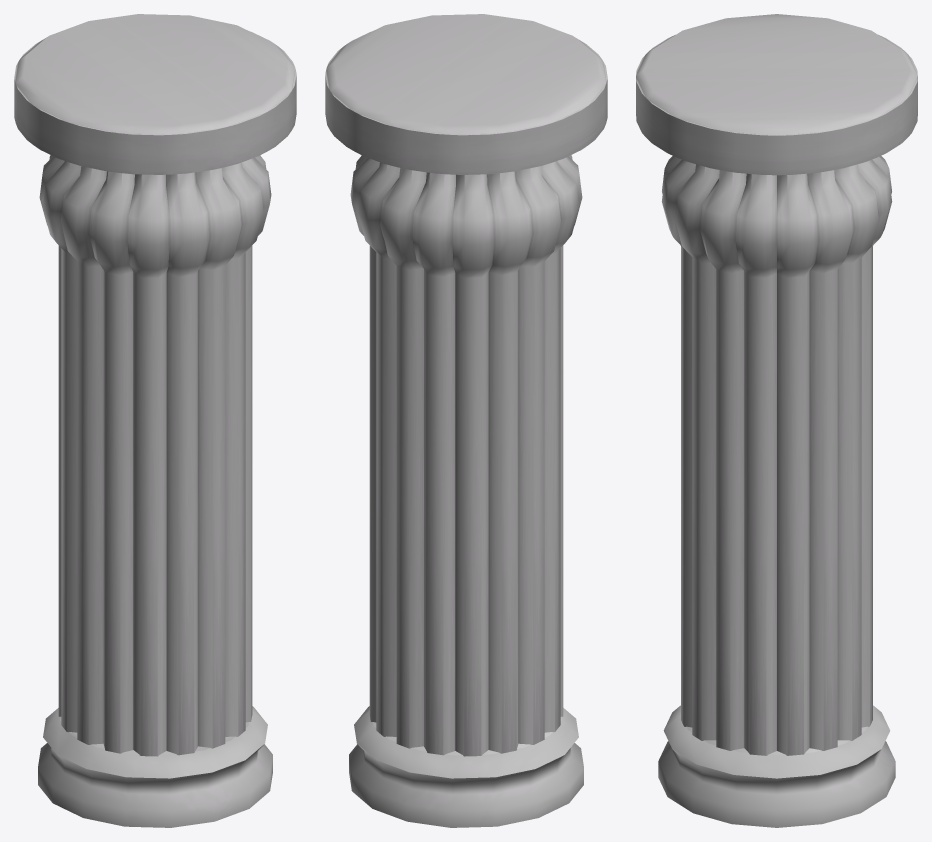
The model's file is MarblePillarHand.fbx.
3 views of the same model, side by side, from view 1: azimuth 30°, elevation 25°; view 2: azimuth 150°, elevation 25°; view 3: azimuth 270°, elevation 25° (orthographic).
Parts seen in each view (by area): view 1: FlowerPotHandHeld; view 2: FlowerPotHandHeld; view 3: FlowerPotHandHeld.
Part boxes in pixels (x1,y1,x2,y2): FlowerPotHandHeld: (14, 14, 296, 827); FlowerPotHandHeld: (325, 14, 607, 827); FlowerPotHandHeld: (636, 14, 917, 827).
Size of the model in its own units: 0.6893 by 1.91 by 0.6893.
1 material, 1 textured.
